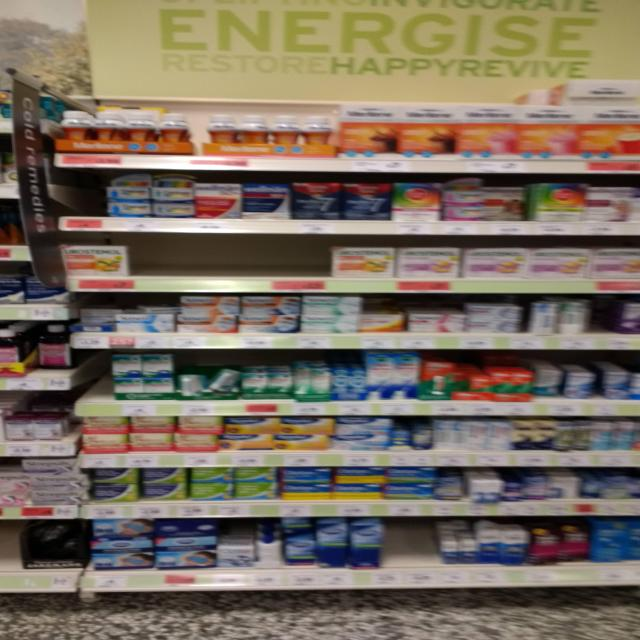empty_space: (148, 238, 313, 275), (396, 518, 420, 562)
